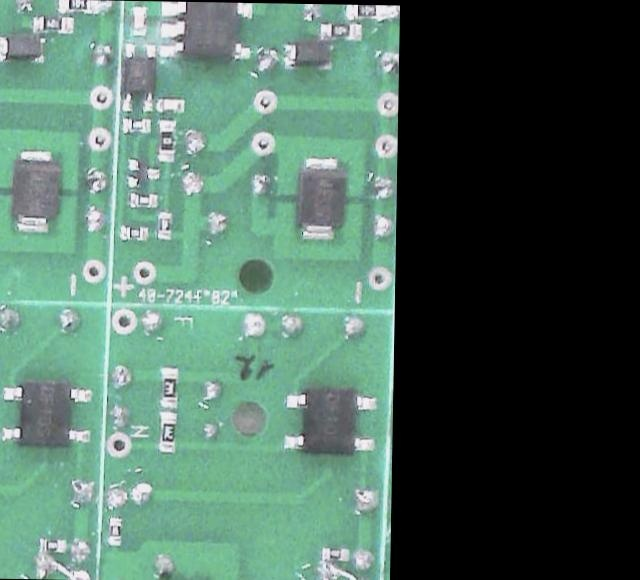chip-capacitor: (130, 5, 146, 34), (156, 97, 184, 110)
chip-resistor: (157, 119, 175, 160), (33, 14, 71, 32), (160, 366, 177, 405), (320, 21, 359, 38), (158, 412, 175, 450), (345, 4, 381, 19), (57, 0, 96, 12), (128, 192, 156, 206), (123, 117, 149, 132), (156, 211, 170, 238), (39, 537, 65, 551), (321, 546, 348, 559), (120, 226, 147, 239), (108, 516, 120, 544)
diode: (9, 147, 59, 232), (295, 154, 344, 239), (283, 38, 330, 68), (0, 34, 44, 60)
ic: (282, 387, 375, 454), (0, 379, 92, 446), (157, 0, 254, 60), (121, 43, 155, 111)
transistor: (126, 158, 158, 187)
